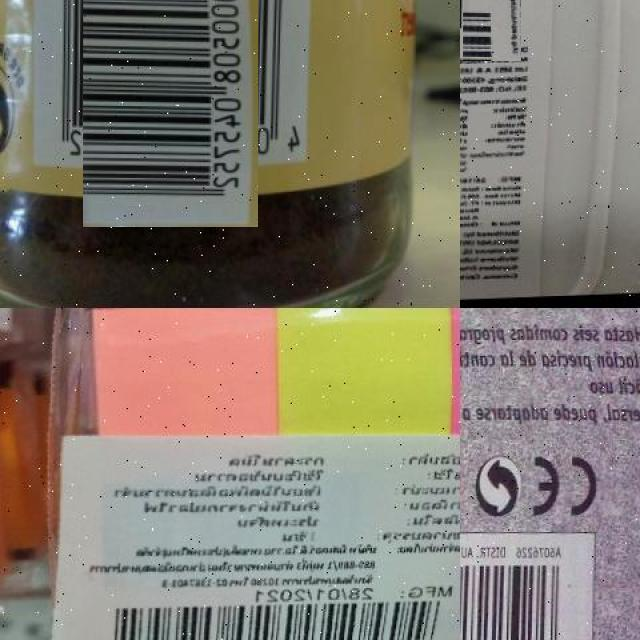Barcode: (56, 0, 283, 202), (96, 596, 447, 640), (460, 540, 591, 640), (461, 0, 521, 60)
